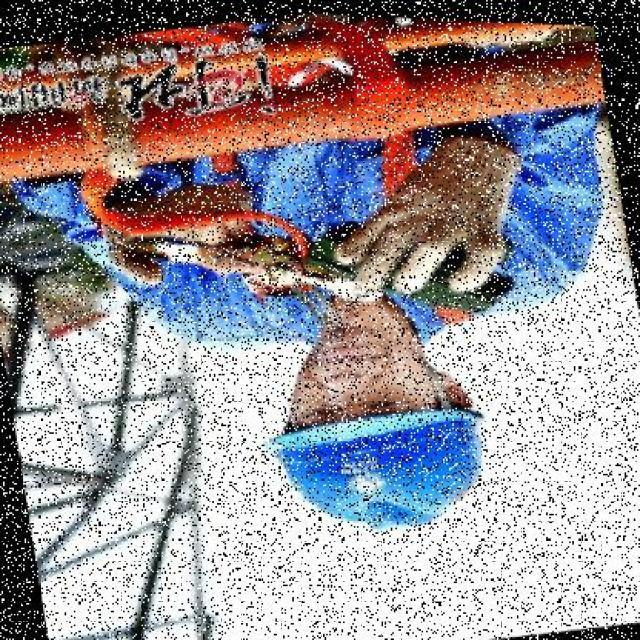helmet: (251, 377, 509, 549)
